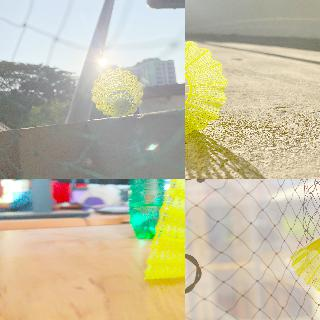shuttlecock: (143, 179, 184, 279), (185, 39, 227, 135), (91, 67, 143, 116), (290, 209, 319, 295)
